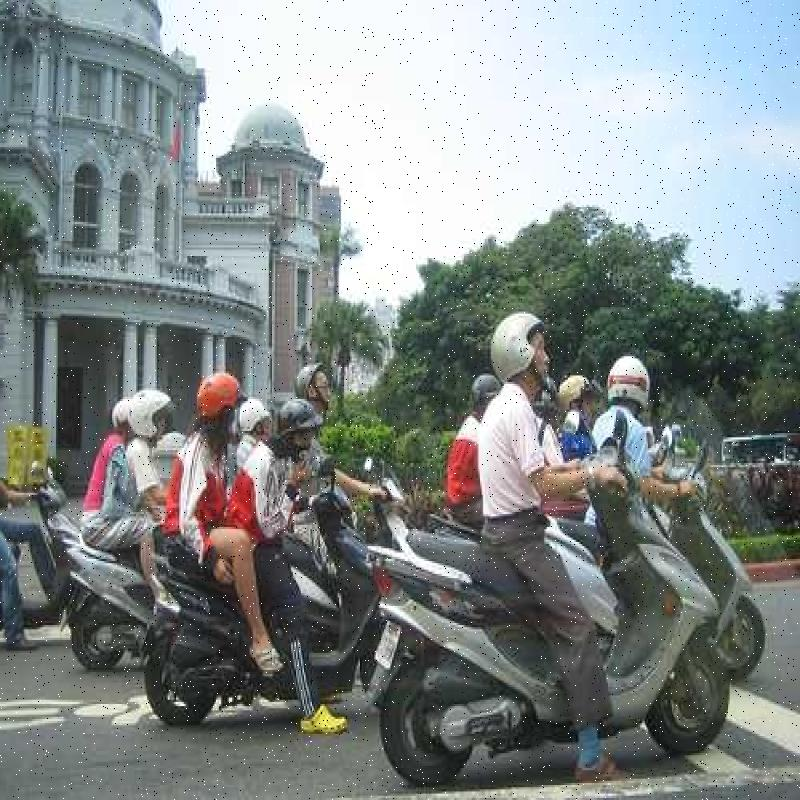bike: (373, 444, 716, 788), (112, 460, 395, 706)
